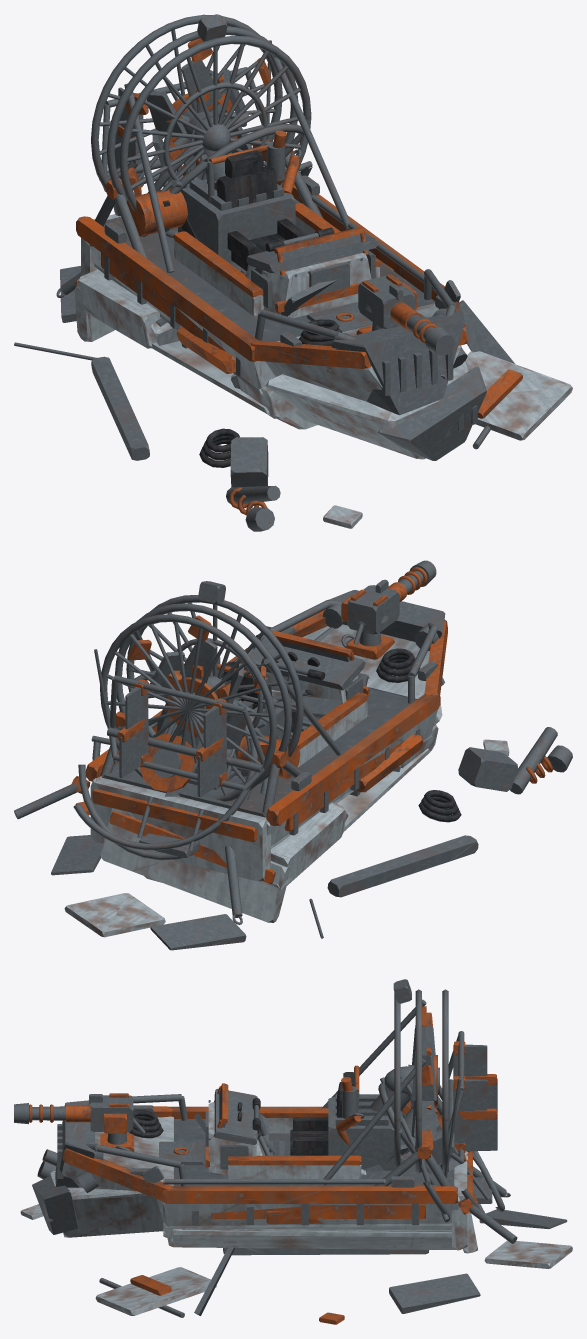
The model's file is airboat.glb.
3 renders of one model, top to bottom at view 1: azimuth 30°, elevation 25°; view 2: azimuth 150°, elevation 25°; view 3: azimuth 270°, elevation 25°, orthographic. The views are drawn at different scales.
Visible parts, largest first — view 1: airboat_body, wreckage_debris, wreckage_bow, wreckage_hull, fan_main, turret_pitch, wreckage_fan, wreckage_cockpit, rudder_left; view 2: airboat_body, wreckage_debris, wreckage_hull, wreckage_fan, fan_main, turret_pitch, rudder_left, rudder_right, wreckage_cockpit; view 3: airboat_body, wreckage_debris, wreckage_hull, wreckage_bow, wreckage_fan, turret_pitch, rudder_right, fan_main, rudder_left, wreckage_engine, wreckage_cockpit.
Part boxes in pixels (box(x1,y1,x2,y2)): airboat_body: box(76, 14, 467, 415); wreckage_debris: box(14, 266, 572, 531); wreckage_bow: box(265, 304, 486, 460); wreckage_hull: box(74, 260, 393, 429); fan_main: box(125, 38, 270, 195); turret_pitch: box(358, 275, 454, 355); wreckage_fan: box(56, 112, 312, 297); wreckage_cockpit: box(181, 219, 337, 318); rudder_left: box(110, 87, 143, 187); airboat_body: box(86, 581, 447, 881); wreckage_debris: box(51, 727, 572, 950); wreckage_hull: box(100, 724, 438, 922); wreckage_fan: box(14, 670, 268, 924); fan_main: box(128, 615, 268, 761); turret_pitch: box(341, 560, 436, 644); rudder_left: box(196, 698, 227, 796); rudder_right: box(117, 679, 148, 777); wreckage_cockpit: box(271, 673, 368, 717); airboat_body: box(55, 979, 492, 1248); wreckage_debris: box(20, 1149, 572, 1324); wreckage_hull: box(167, 1177, 478, 1255); wreckage_bow: box(32, 1145, 163, 1237); wreckage_fan: box(378, 1072, 517, 1243); turret_pitch: box(14, 1094, 145, 1134); rudder_right: box(453, 1076, 497, 1152); fan_main: box(384, 1006, 439, 1149); rudder_left: box(453, 1041, 497, 1112); wreckage_engine: box(336, 1106, 438, 1171); wreckage_cockpit: box(194, 1113, 366, 1175).
Size of what is drawn, in the model's own units: 4.16 by 3.37 by 6.3.
Materials: 1 (1 with a texture image).
